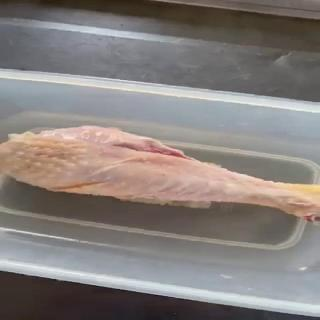Ayam: (1, 125, 320, 225)
